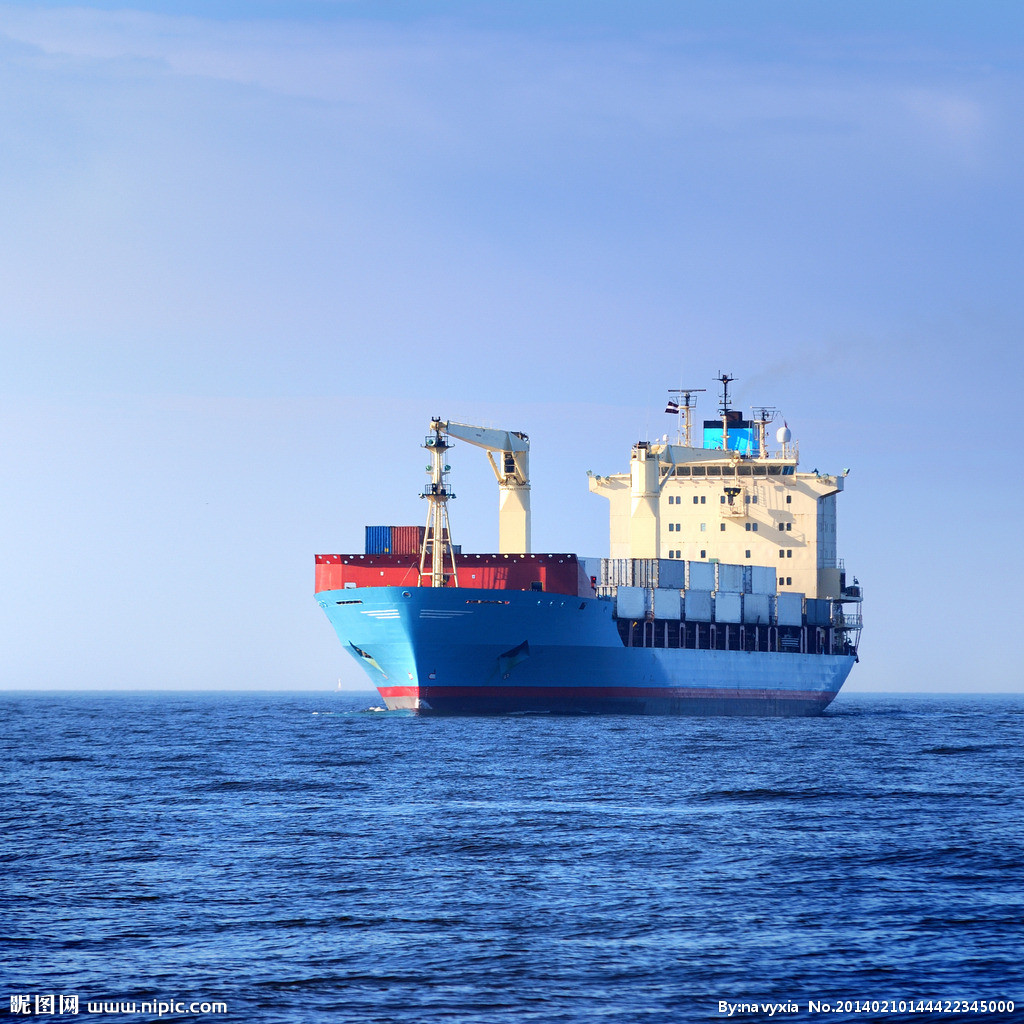Cargoship: (290, 367, 872, 718)
